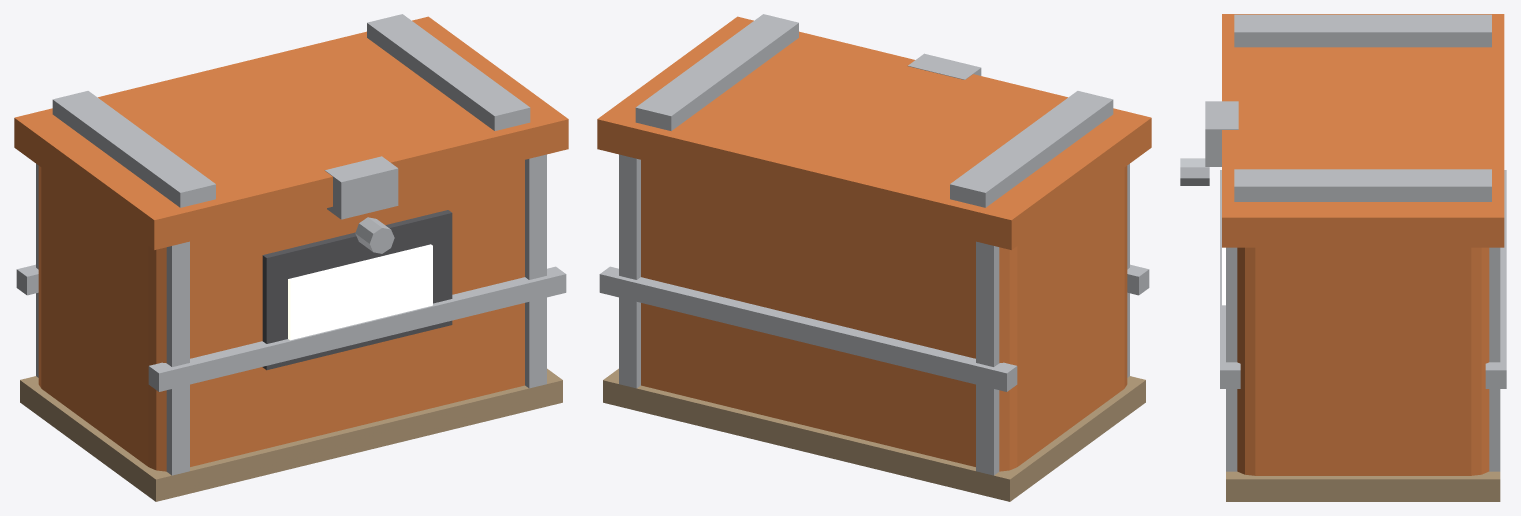
File: underground-mine-and-shaft-works-powder-box-9708722c.glb
3 renders of one model, left to right at view 1: azimuth 30°, elevation 25°; view 2: azimuth 150°, elevation 25°; view 3: azimuth 270°, elevation 25°, orthographic.
Visible parts, largest first — view 1: powder-box; view 2: powder-box; view 3: powder-box.
Boxes of the visible parts, left/top/right/bottom form: powder-box: left=14, top=14, right=568, bottom=501; powder-box: left=597, top=14, right=1151, bottom=501; powder-box: left=1180, top=14, right=1506, bottom=501.
Bounding box in the file's own units: 1.16 × 0.8 × 0.785.
